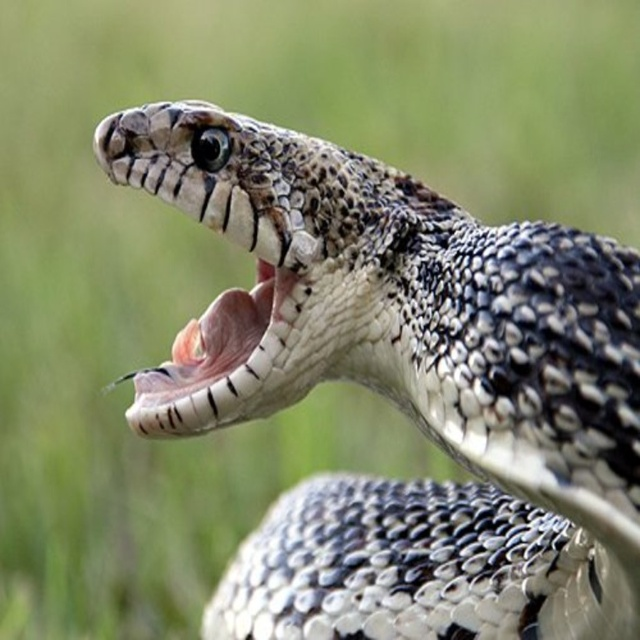Snake: (92, 99, 640, 640)
